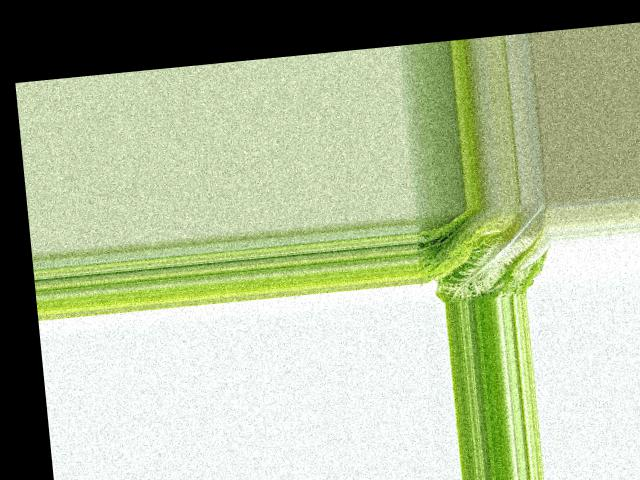lettuce: (411, 202, 556, 304)
